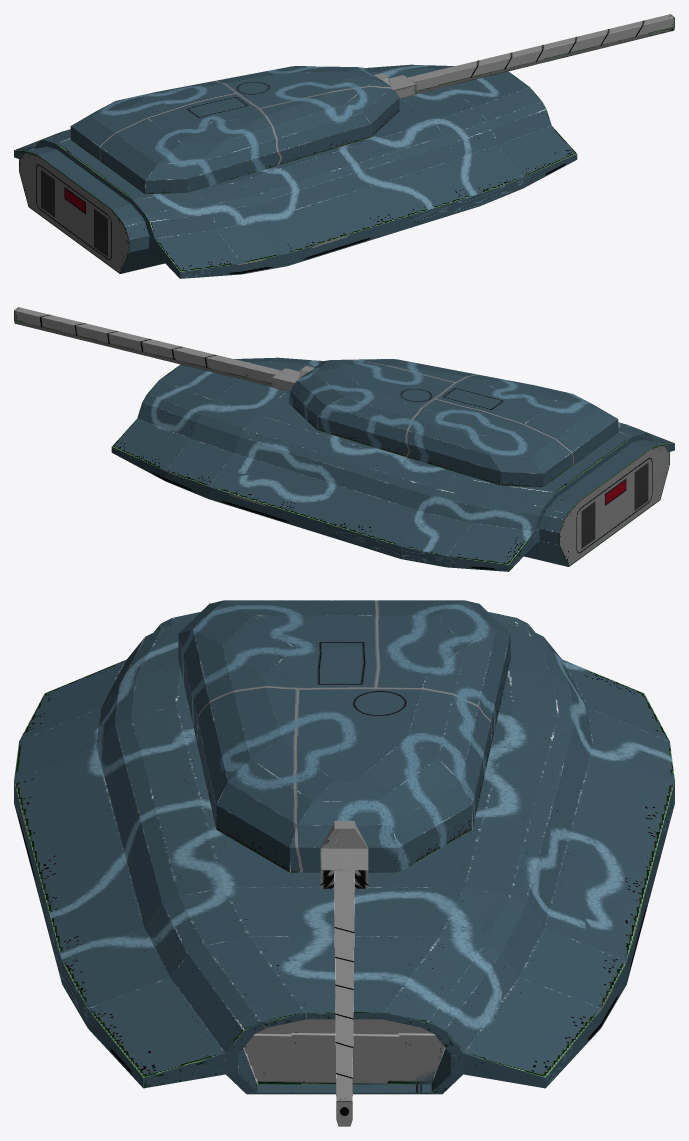
Rendered from future_tank.FBX.
3 views of the same model, one above another, from view 1: azimuth 30°, elevation 25°; view 2: azimuth 150°, elevation 25°; view 3: azimuth 270°, elevation 25° (orthographic). The views are drawn at different scales.
Parts seen in each view (by area): view 1: Box001, Box002, Box003; view 2: Box001, Box002, Box003; view 3: Box001, Box002, Box003.
Boxes of the visible parts, x1,y1,x2,y2 form: Box001: (14,64,577,278); Box002: (70,66,399,194); Box003: (374,14,674,98); Box001: (111,357,674,571); Box002: (289,359,618,487); Box003: (14,307,314,391); Box001: (14,612,674,1094); Box002: (178,600,510,872); Box003: (320,821,368,1126).
Size of the model in its own units: 153 by 27.44 by 81.02.
3 materials, 3 textured.
